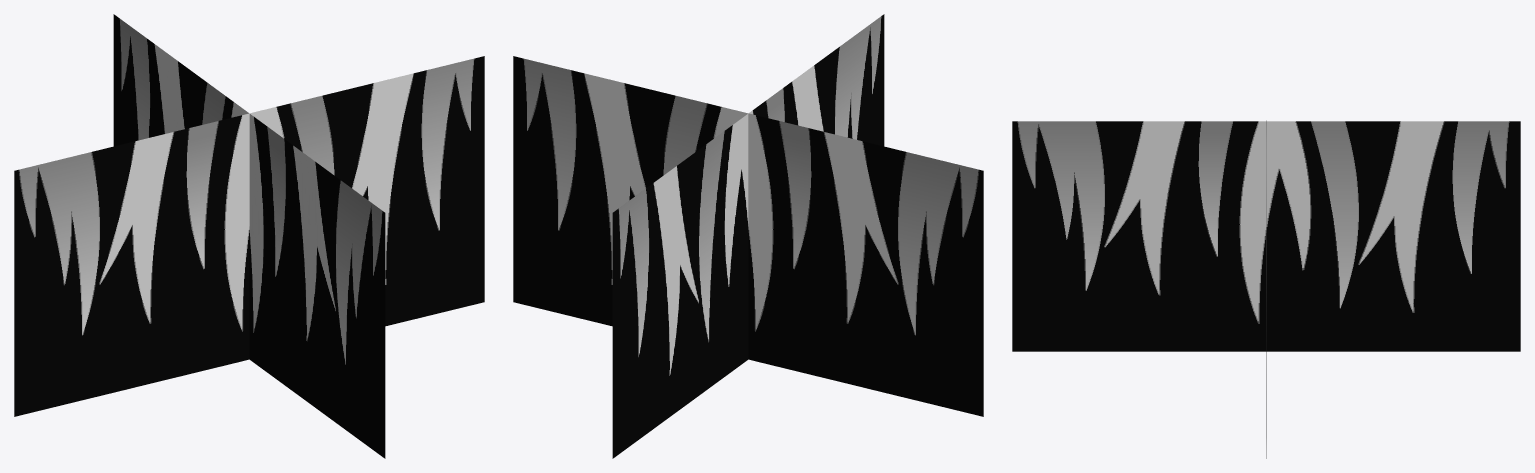
Rendered from block_crosshatch.glb.
3 views of the same model, side by side, from view 1: azimuth 30°, elevation 25°; view 2: azimuth 150°, elevation 25°; view 3: azimuth 270°, elevation 25° (orthographic). The views are drawn at different scales.
Parts seen in each view (by area): view 1: Plane; view 2: Plane; view 3: Plane.
Boxes of the visible parts, box(x1,y1,x2,y2) form: Plane: box(14, 14, 484, 458); Plane: box(513, 14, 983, 458); Plane: box(1012, 120, 1520, 458).
Bounding box in the file's own units: 2 × 1 × 2.
Materials: 1 (1 with a texture image).
